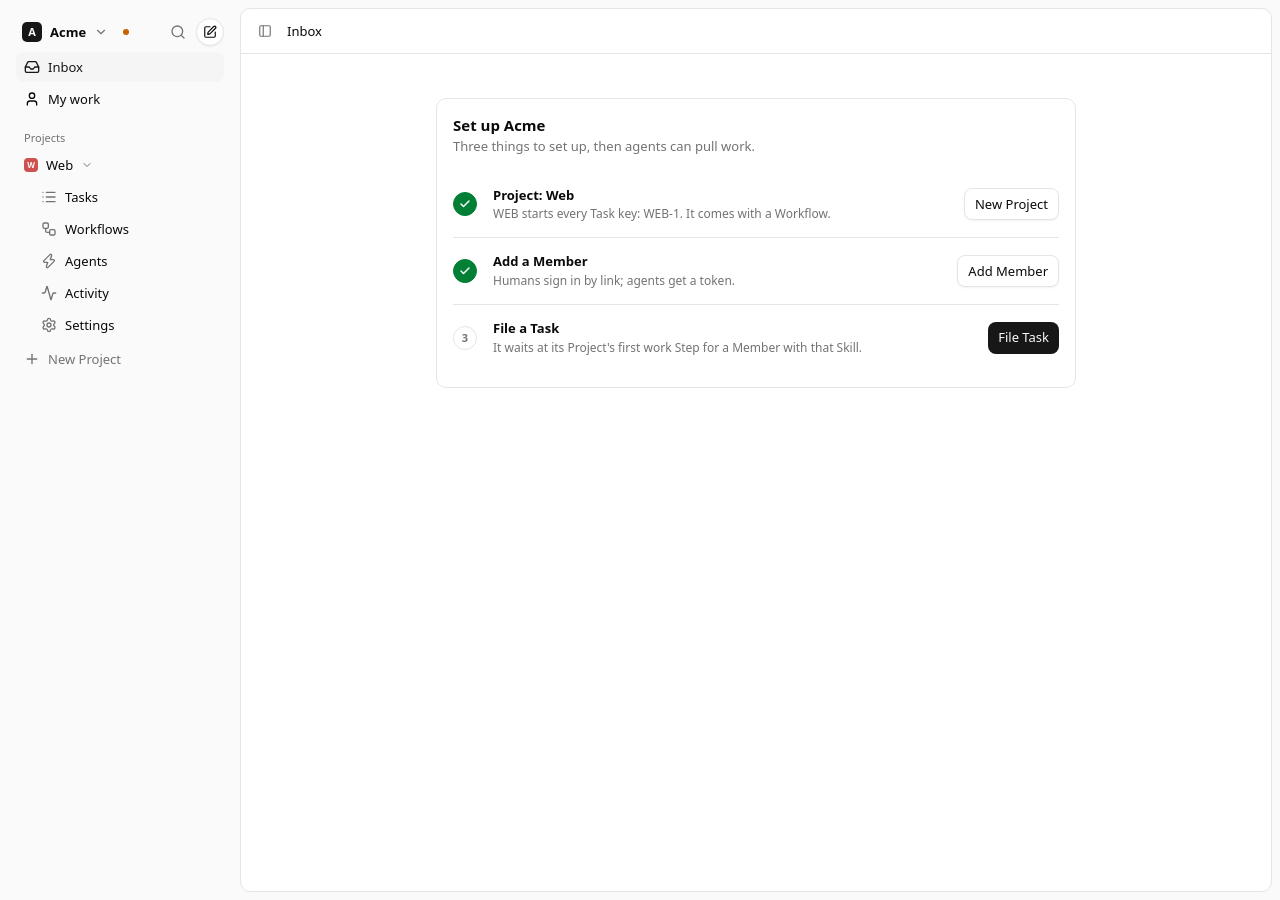
Test: the Organisation menu › offers Settings, Invite and manage Members, Switch Organisation and Log out, with their keys
Click the button "A Acme".
click(65, 32)  # box top-left (16, 16), bottom-right (114, 48)
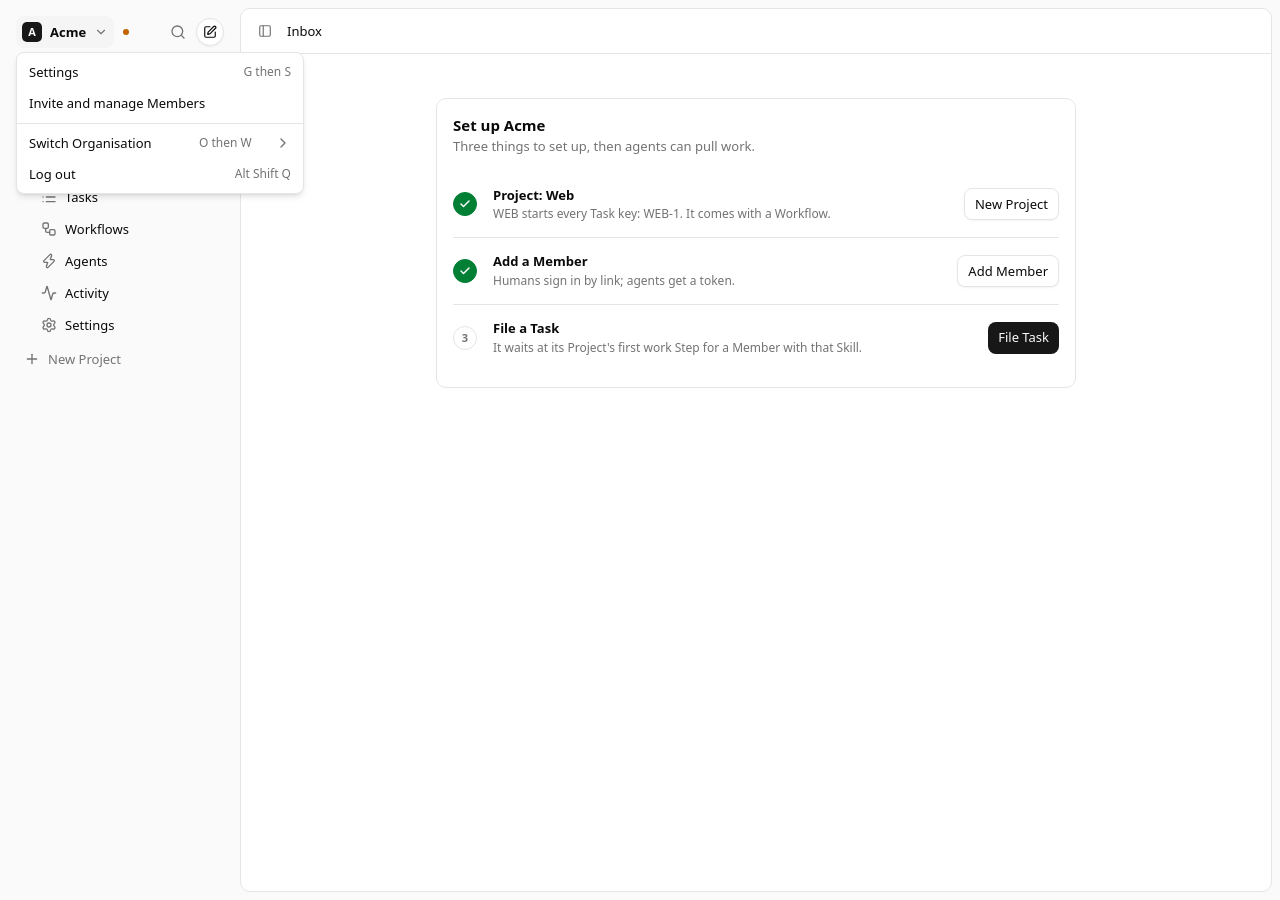
Click the menu item "Settings G then S".
click(54, 72)  # box top-left (29, 63), bottom-right (291, 81)
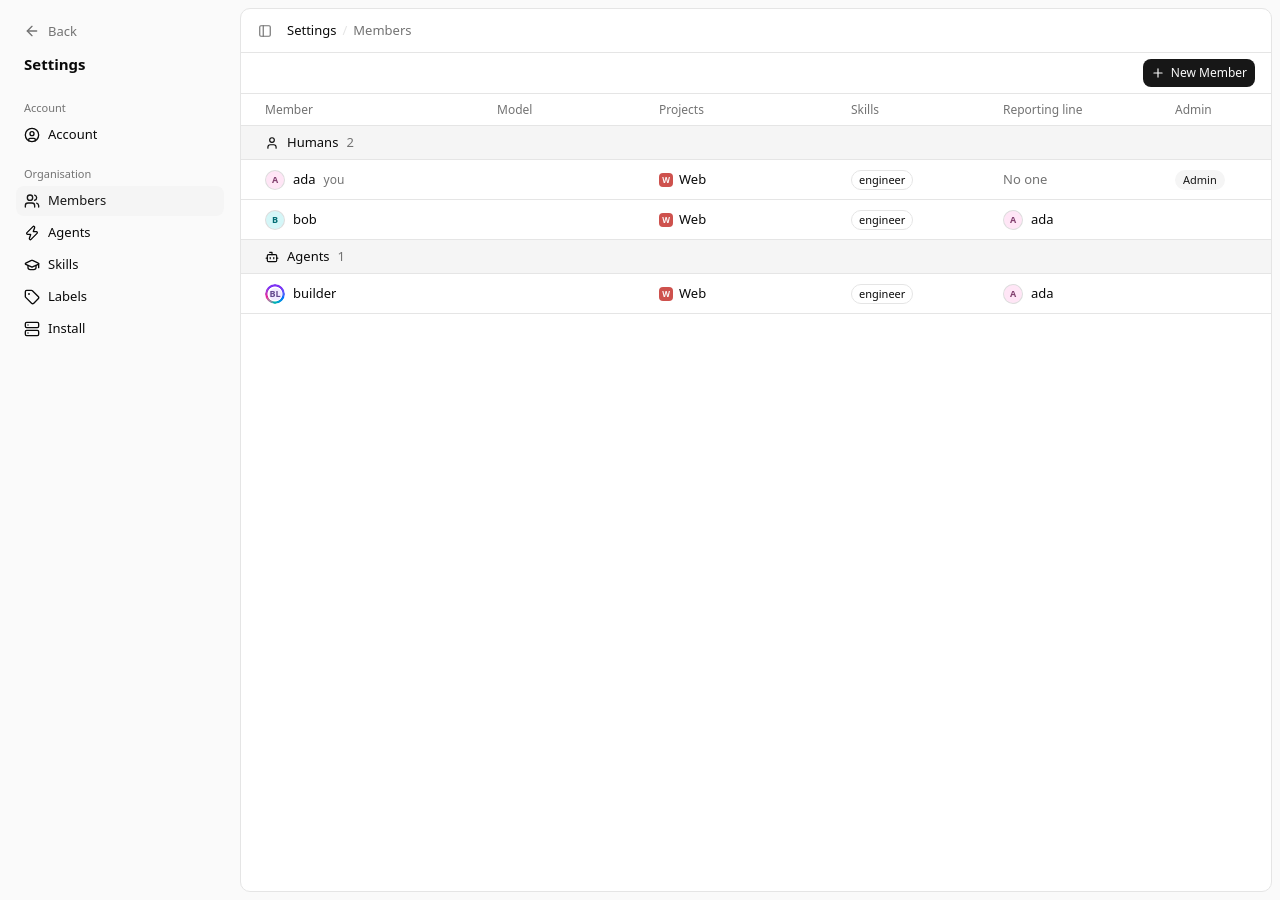
Expected: the navigation bar named "Breadcrumb" reads "Settings / Members", top-left (287, 21), bottom-right (412, 40)
